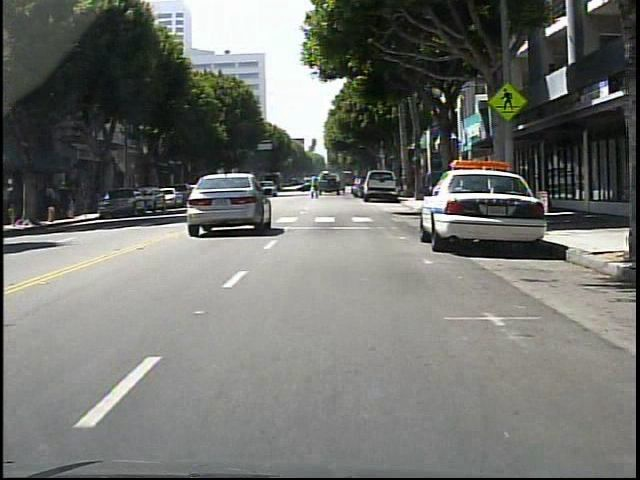person: (423, 165, 439, 205), (60, 180, 73, 219), (47, 184, 59, 219), (311, 175, 324, 201)
